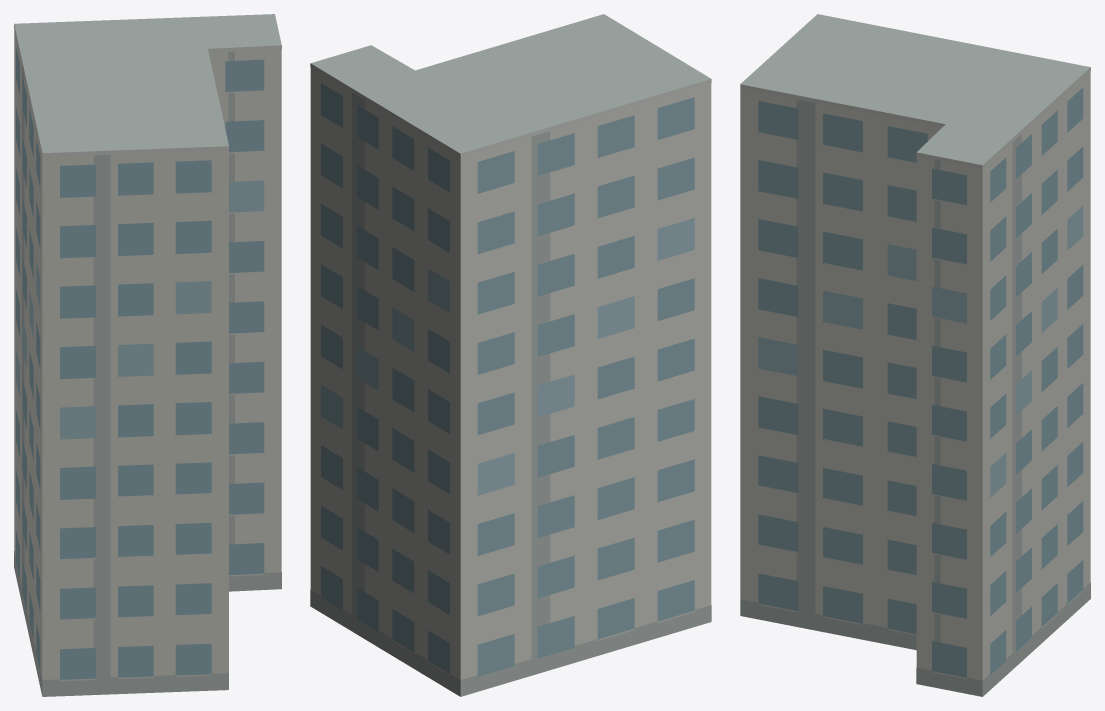
File: survey-upis-32633714.glb
3 views of the same model, side by side, from view 1: azimuth 30°, elevation 25°; view 2: azimuth 150°, elevation 25°; view 3: azimuth 270°, elevation 25° (orthographic). The views are drawn at different scales.
Visible parts, largest first — view 1: survey-upis-32633714.tmp; view 2: survey-upis-32633714.tmp; view 3: survey-upis-32633714.tmp.
Boxes of the visible parts, x1,y1,x2,y2 form: survey-upis-32633714.tmp: [14, 14, 281, 696]; survey-upis-32633714.tmp: [310, 14, 711, 696]; survey-upis-32633714.tmp: [740, 14, 1090, 696].
Size of the model in its own units: 19.41 by 31.8 by 19.01.
